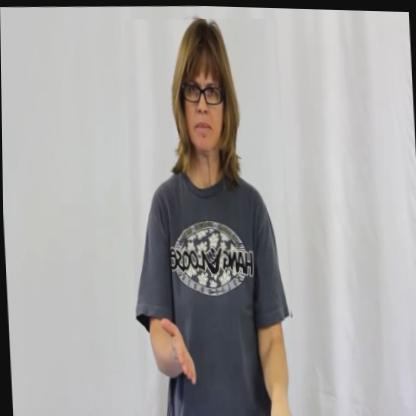Expensive: (121, 13, 295, 416)
